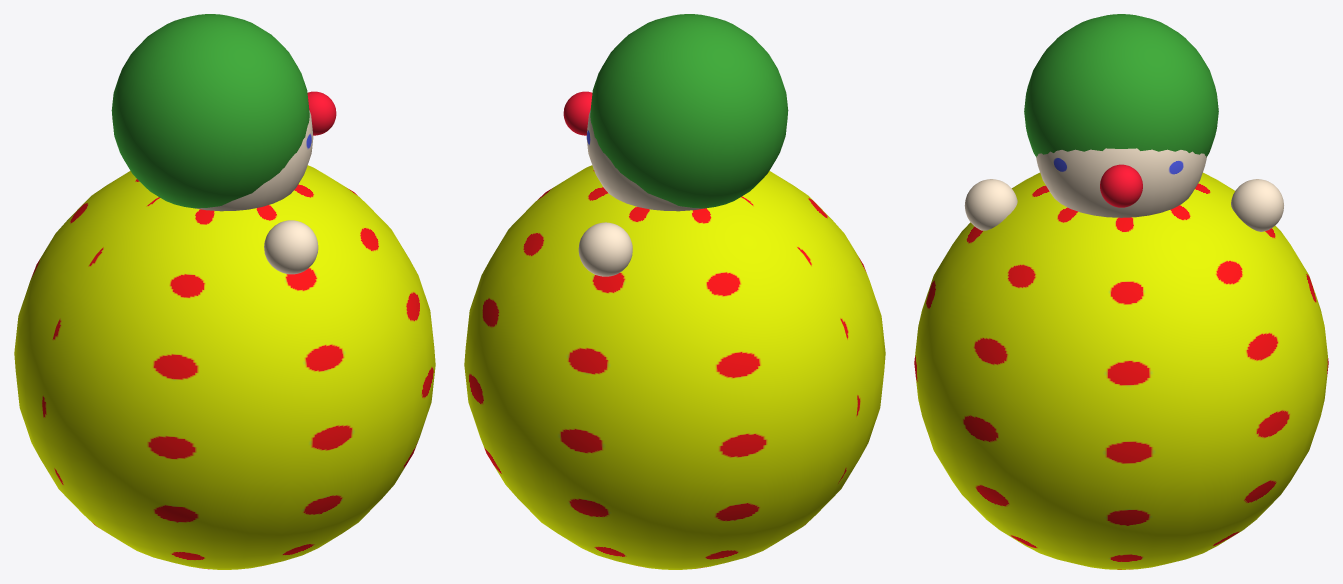
File: clown_yellowreddot.gltf
The picture shows the model from 3 angles, left to right: view 1: azimuth 30°, elevation 25°; view 2: azimuth 150°, elevation 25°; view 3: azimuth 270°, elevation 25°; orthographic projection.
Parts seen in each view (by area): view 1: Clown; view 2: Clown; view 3: Clown.
Part boxes in pixels (<box>): Clown: <box>14,14,435,569</box>; Clown: <box>464,14,885,569</box>; Clown: <box>914,14,1328,569</box>.
Size of the model in its own units: 2 by 2.77 by 2.
1 material, 1 textured.
